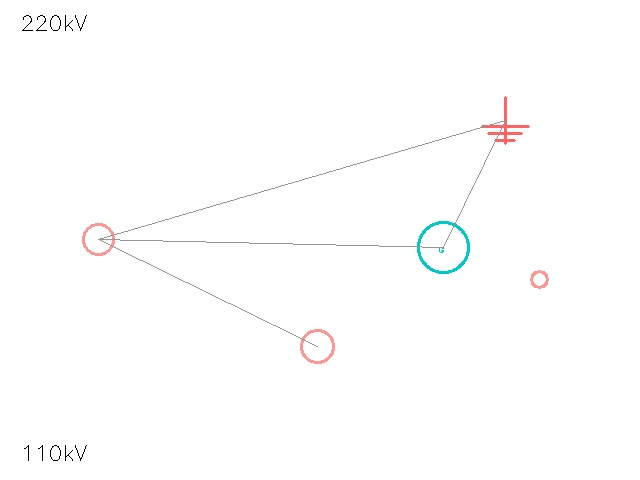fuse: (68, 209, 128, 269)
generator: (418, 222, 468, 272)
ground: (482, 97, 528, 143)
reactor: (285, 314, 349, 378), (522, 262, 556, 296)
